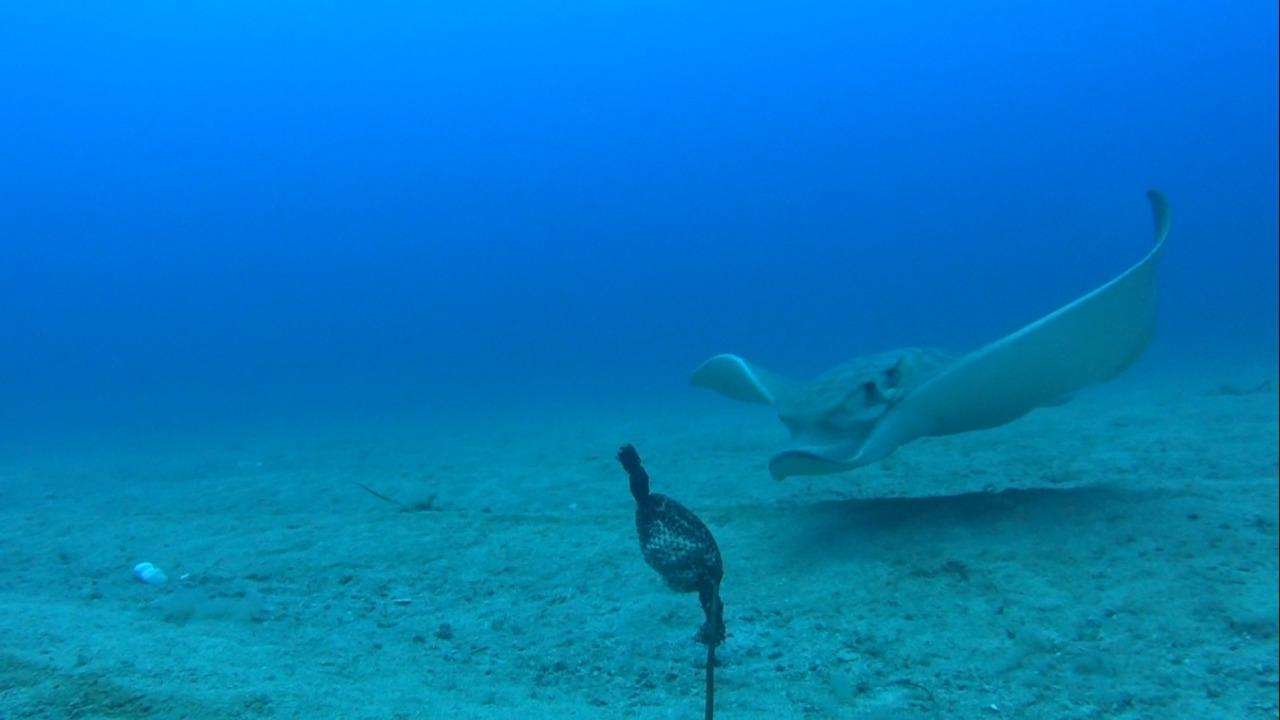myliobatis: (681, 182, 1174, 485)
